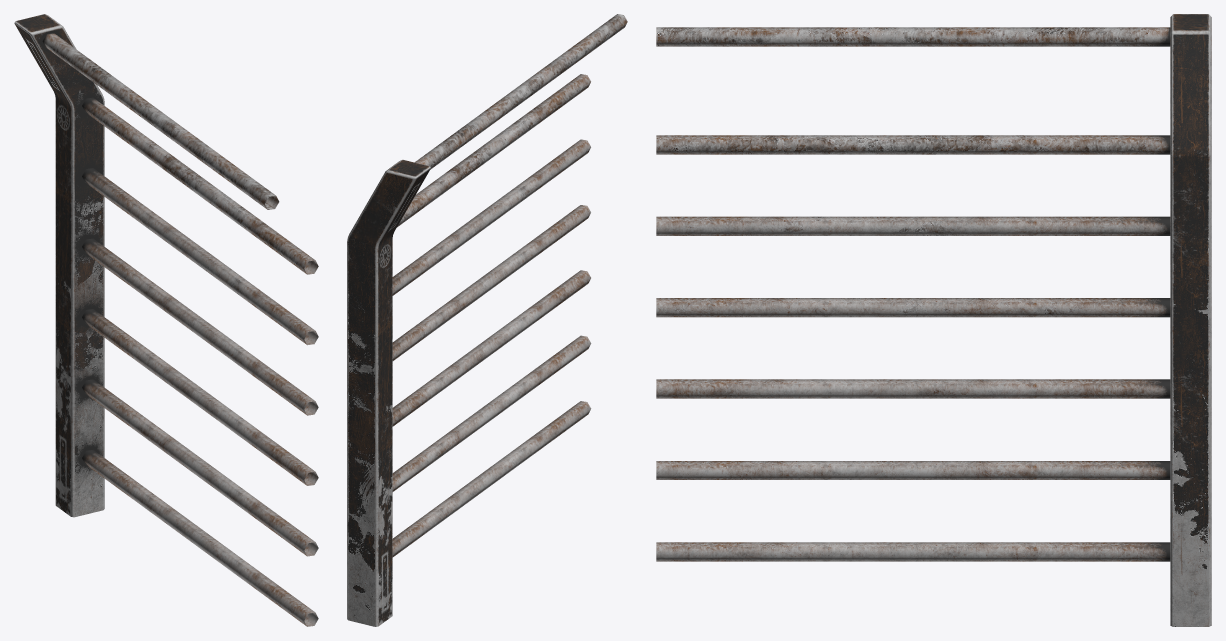
File: SM_MetalFence.fbx
3 renders of one model, left to right at view 1: azimuth 30°, elevation 25°; view 2: azimuth 150°, elevation 25°; view 3: azimuth 270°, elevation 25°, orthographic. The views are drawn at different scales.
Visible parts, largest first — view 1: SM_MetalFence_LOD0; view 2: SM_MetalFence_LOD0; view 3: SM_MetalFence_LOD0.
Part boxes in pixels (<box>): SM_MetalFence_LOD0: <box>14,14,318,626</box>; SM_MetalFence_LOD0: <box>347,14,627,626</box>; SM_MetalFence_LOD0: <box>656,14,1211,626</box>.
Size of the model in its own units: 64.16 by 356 by 404.
1 material, 1 textured.
